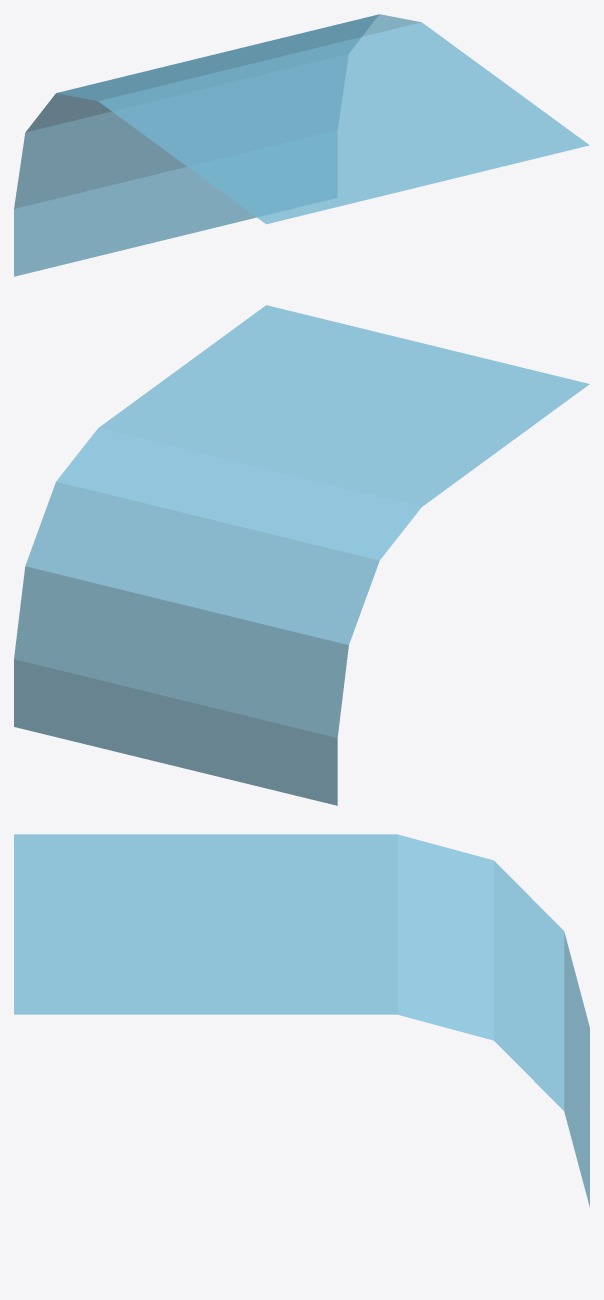
File: Cliff_Terrain_Waterfall_Water_Top.glb
3 views of the same model, one above another, from view 1: azimuth 30°, elevation 25°; view 2: azimuth 150°, elevation 25°; view 3: azimuth 270°, elevation 25° (orthographic). The views are drawn at different scales.
Visible parts, largest first — view 1: Cliff_Terrain_Waterfall_Water_Top; view 2: Cliff_Terrain_Waterfall_Water_Top; view 3: Cliff_Terrain_Waterfall_Water_Top.
Boxes of the visible parts, x1,y1,x2,y2 form: Cliff_Terrain_Waterfall_Water_Top: [14, 14, 589, 276]; Cliff_Terrain_Waterfall_Water_Top: [14, 305, 589, 805]; Cliff_Terrain_Waterfall_Water_Top: [14, 834, 589, 1207].
Bounding box in the file's own units: 1 × 0.7 × 1.35.
